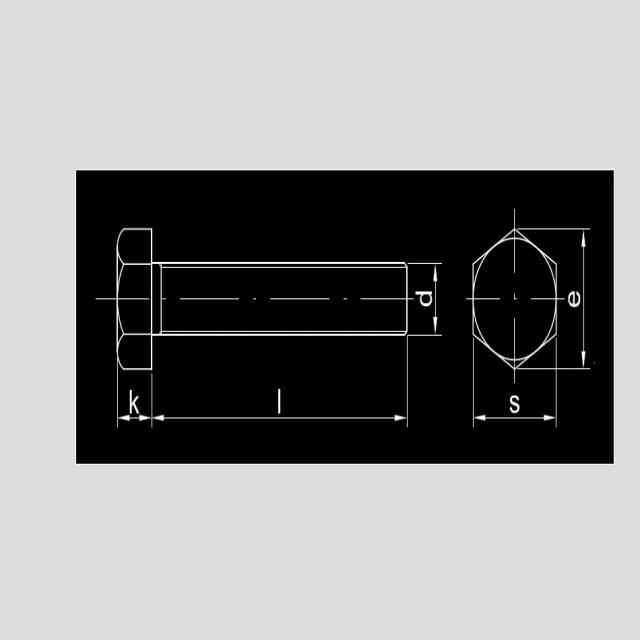marking_line: (114, 371, 413, 436), (150, 372, 410, 429), (469, 370, 557, 428), (559, 228, 593, 370), (114, 372, 160, 433), (408, 259, 443, 339), (114, 372, 133, 428)
